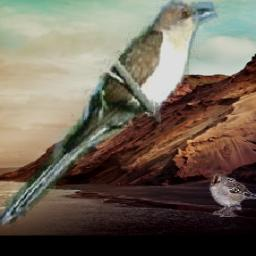Cuckoo: (0, 0, 220, 234)
Sparrow: (208, 173, 256, 217)
